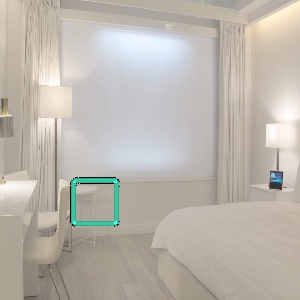square: (68, 175, 122, 227)
